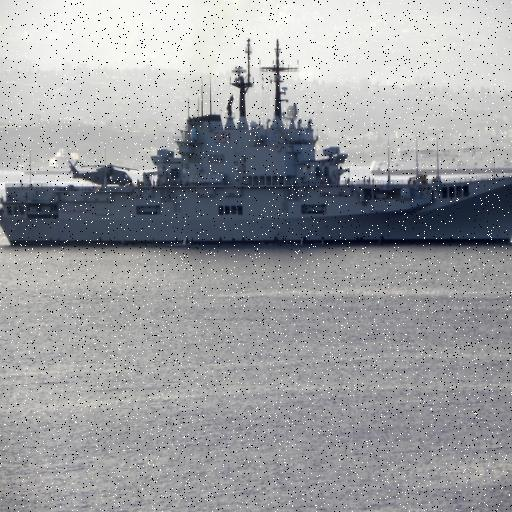Portanaves: (1, 34, 512, 256)
